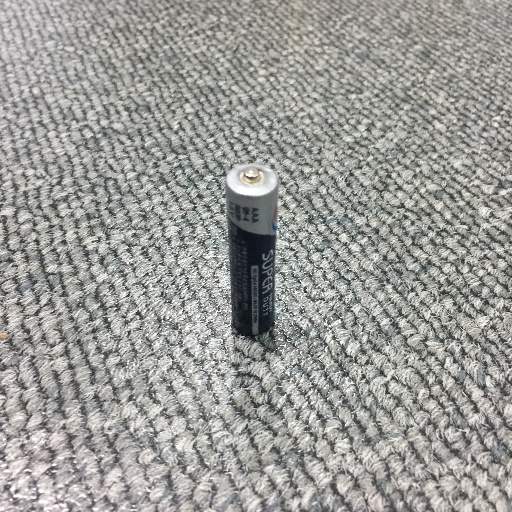Battery_0: (221, 158, 288, 342)
